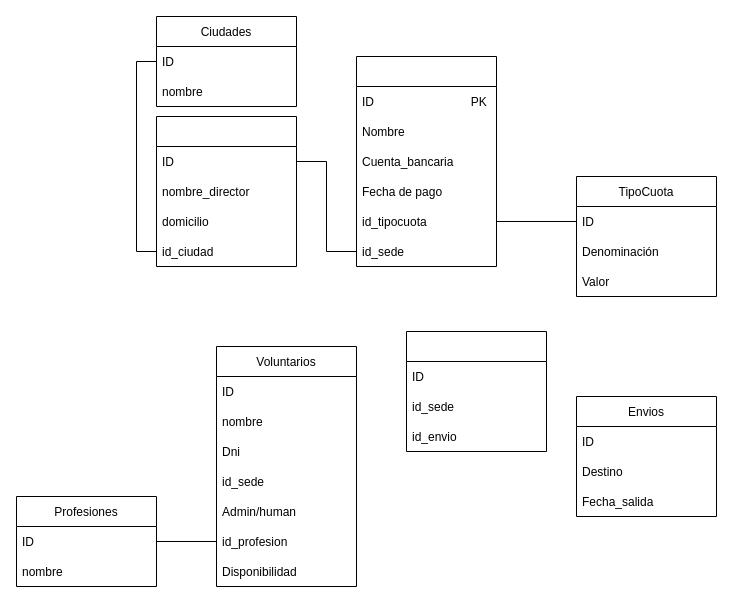
The diagram is 733 pixels wide and 603 high, and some of its shapes have lost their labels. Each missing label, with the box of its shape:
Envios - sedes: (406, 330, 546, 452)
Sedes: (156, 116, 296, 266)
Socios: (356, 56, 496, 266)
